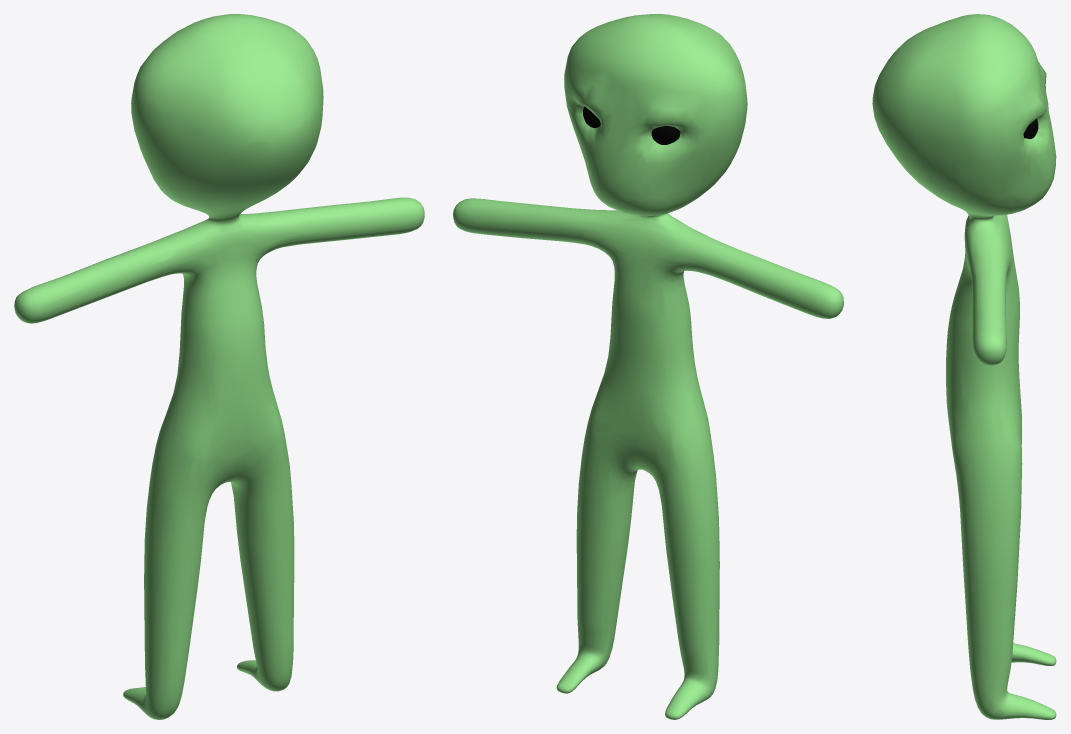
File: Alien.glb
The picture shows the model from 3 angles, left to right: view 1: azimuth 30°, elevation 25°; view 2: azimuth 150°, elevation 25°; view 3: azimuth 270°, elevation 25°; orthographic projection. The views are drawn at different scales.
Parts seen in each view (by area): view 1: Cube.026; view 2: Cube.026; view 3: Cube.026.
Boxes of the visible parts, x1,y1,x2,y2 form: Cube.026: (14, 14, 424, 719); Cube.026: (453, 14, 843, 719); Cube.026: (872, 14, 1056, 719).
Size of the model in its own units: 1.85 by 3.01 by 0.7534.
